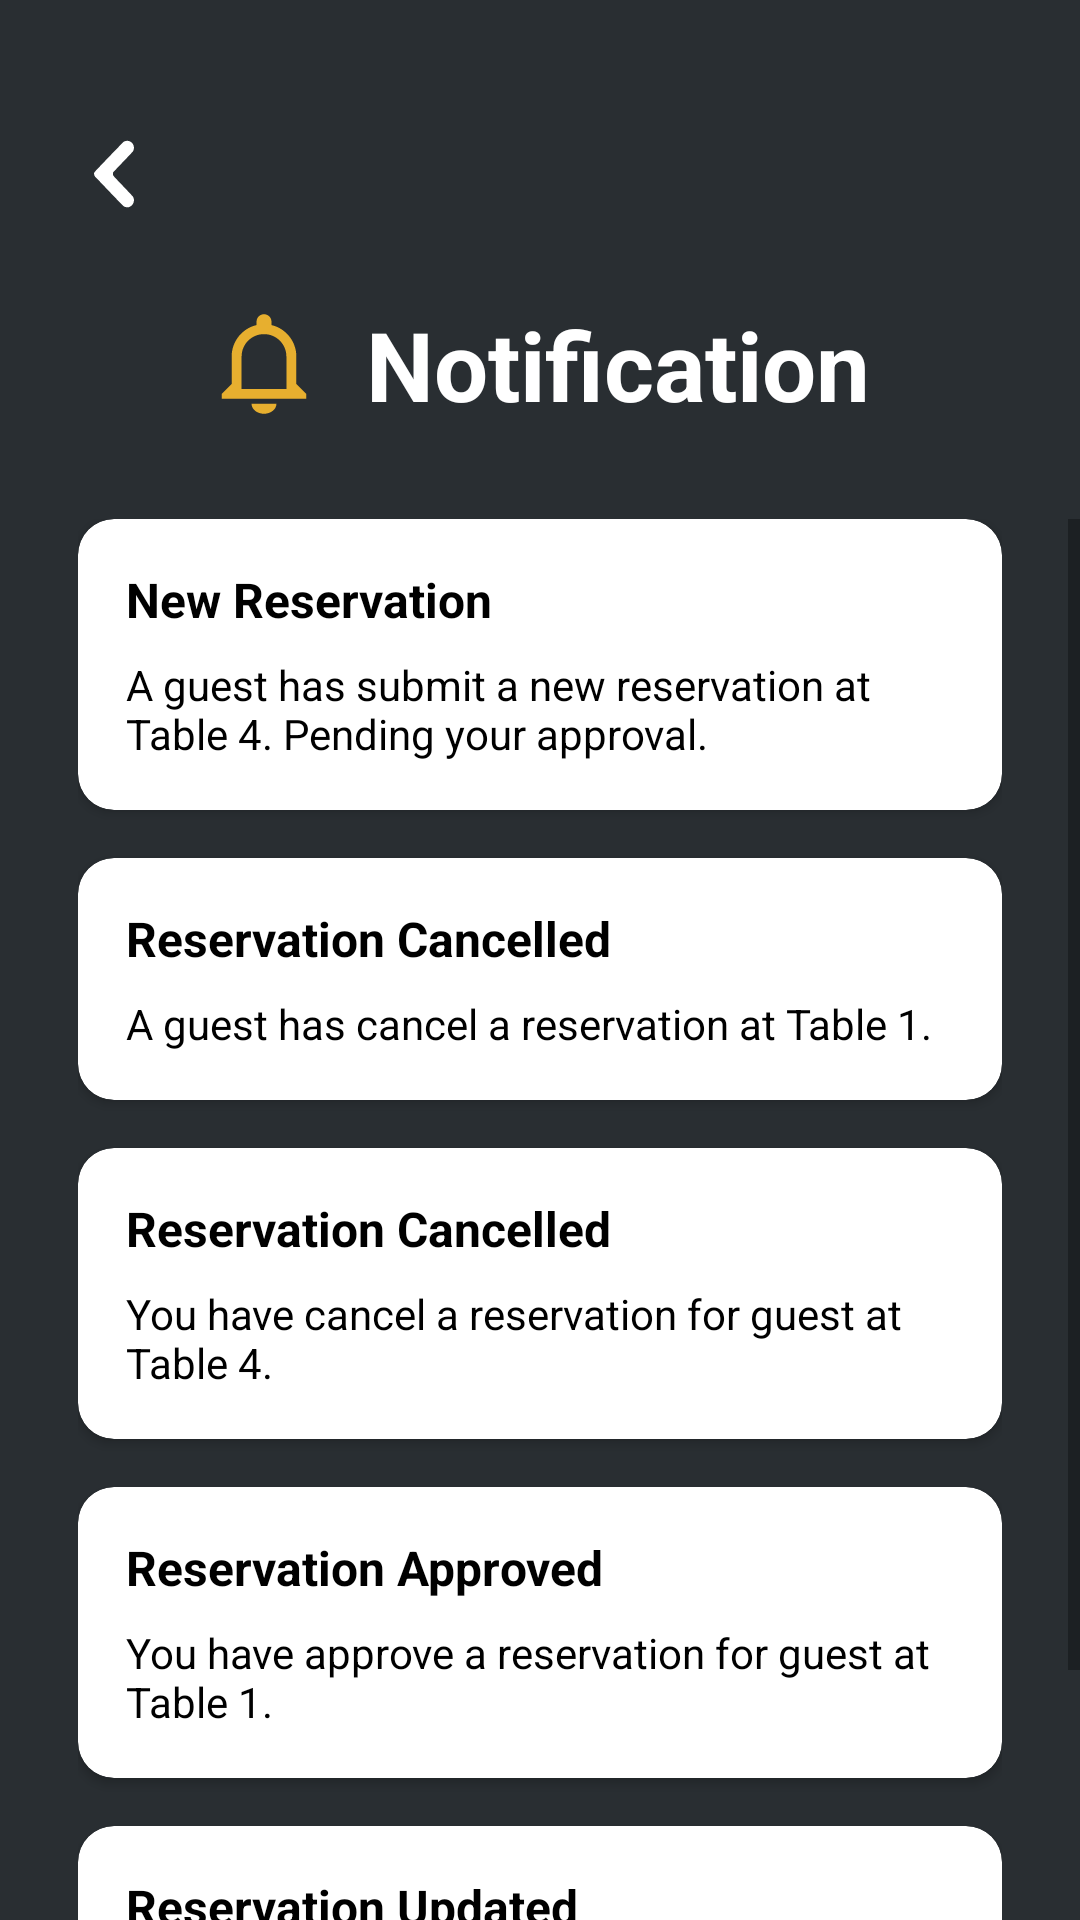

Where icons sit on this 1080×1920 app screen, as (x1, y1, x2, y2):
Back: (94, 140, 134, 208)
